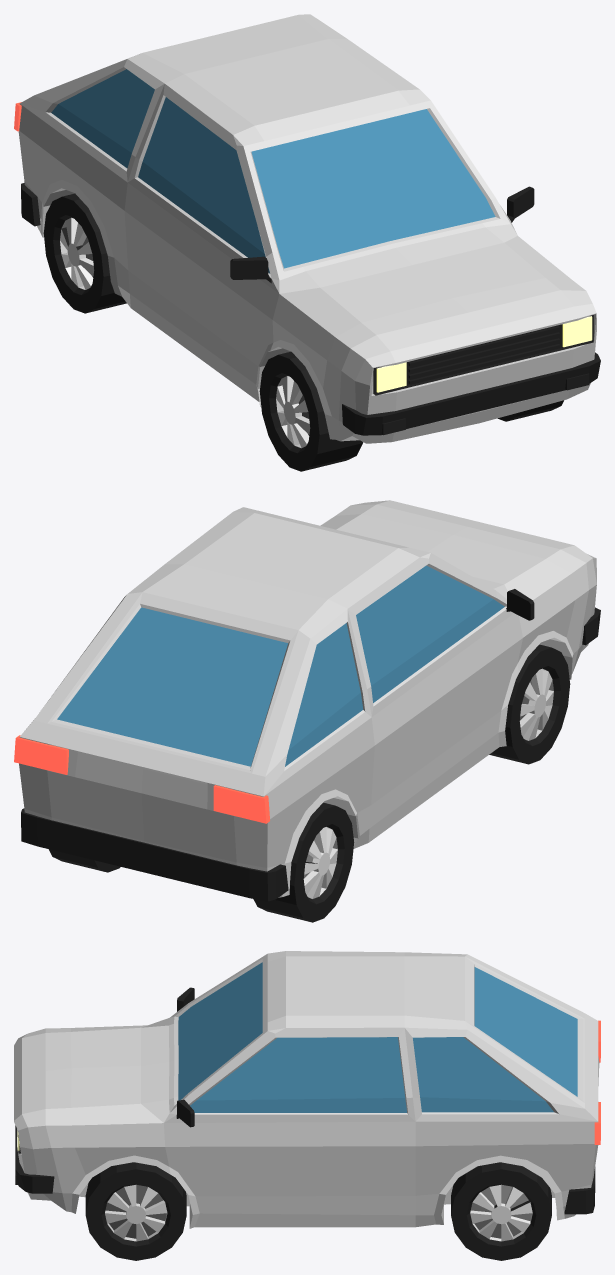
The model's file is car.glb.
The picture shows the model from 3 angles, top to bottom: view 1: azimuth 30°, elevation 25°; view 2: azimuth 150°, elevation 25°; view 3: azimuth 270°, elevation 25°; orthographic projection. The views are drawn at different scales.
Visible parts, largest first — view 1: Cube, Cube.003, Cube.004, Cube.001, Cube.002, Cube.007, Cube.006; view 2: Cube, Cube.004, Cube.001, Cube.003, Cube.005, Cube.007; view 3: Cube, Cube.003, Cube.001, Cube.004, Cube.007.
Boxes of the visible parts, bbox=[...] form: Cube: bbox=[18, 14, 596, 443]; Cube.003: bbox=[259, 351, 563, 471]; Cube.004: bbox=[21, 183, 600, 435]; Cube.001: bbox=[43, 193, 126, 313]; Cube.002: bbox=[373, 315, 593, 395]; Cube.007: bbox=[230, 186, 534, 283]; Cube.006: bbox=[376, 316, 592, 392]; Cube: bbox=[19, 500, 596, 897]; Cube.004: bbox=[21, 607, 600, 901]; Cube.001: bbox=[49, 802, 354, 922]; Cube.003: bbox=[489, 644, 570, 764]; Cube.005: bbox=[14, 735, 269, 823]; Cube.007: bbox=[506, 589, 534, 620]; Cube: bbox=[14, 951, 599, 1228]; Cube.003: bbox=[85, 1162, 186, 1260]; Cube.001: bbox=[451, 1162, 551, 1260]; Cube.004: bbox=[15, 1125, 595, 1214]; Cube.007: bbox=[176, 987, 194, 1127].
Bounding box in the file's own units: 5.03 × 4.18 × 9.96.
Materials: 4 (4 with a texture image).
